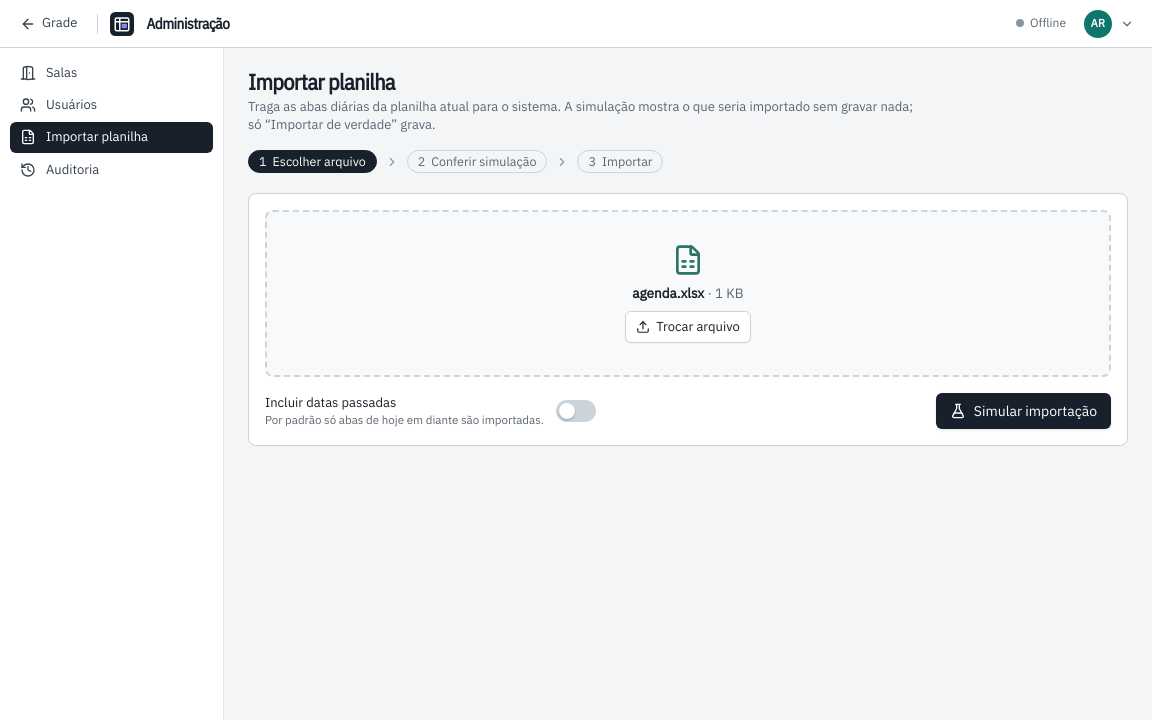
administração (correções) › R34/R45: mudar "Incluir datas passadas" depois de simular descarta a simulação; a real usa as opções simuladas
Earlier steps of the test are not shown.
Later steps or results of the test are not shown.
Click the button "Simular importação" at (1023, 411), box [936, 393, 1111, 429]
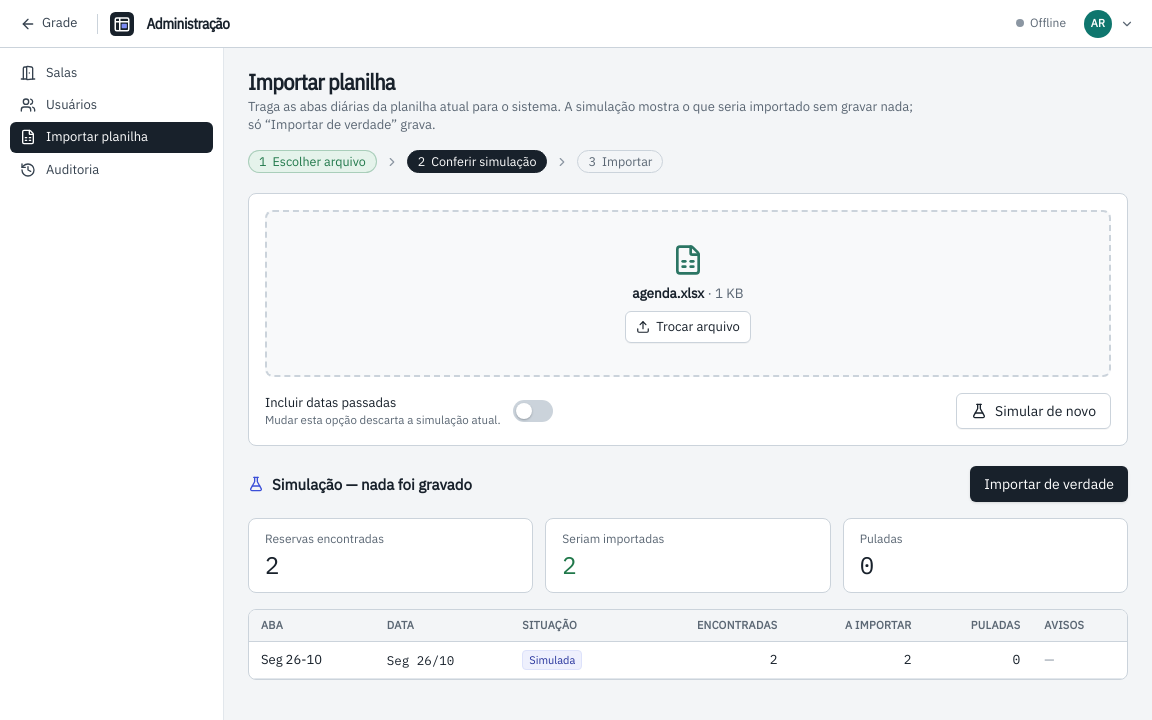
Now the button "Importar de verdade" is shown, box [970, 466, 1128, 502]
Click the switch named "Incluir datas passadas" at (533, 411), box [513, 400, 553, 422]
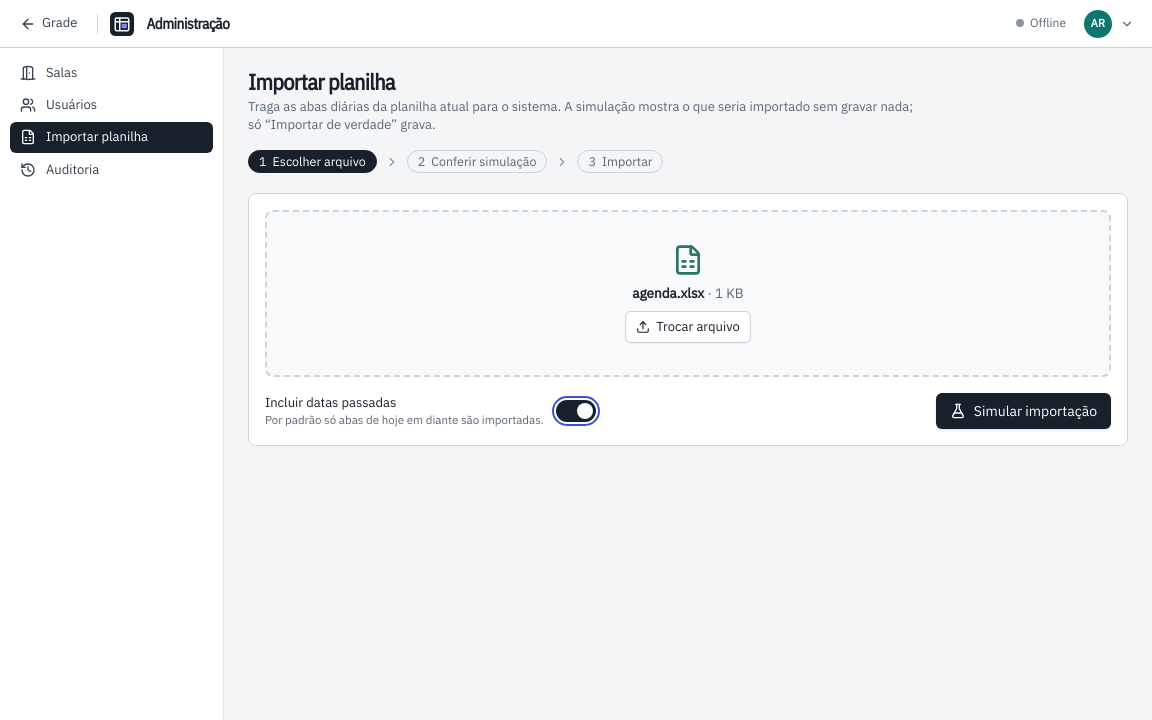
Expected: the button "Importar de verdade" is not shown
Now the heading "Simulação — nada foi gravado" is gone
